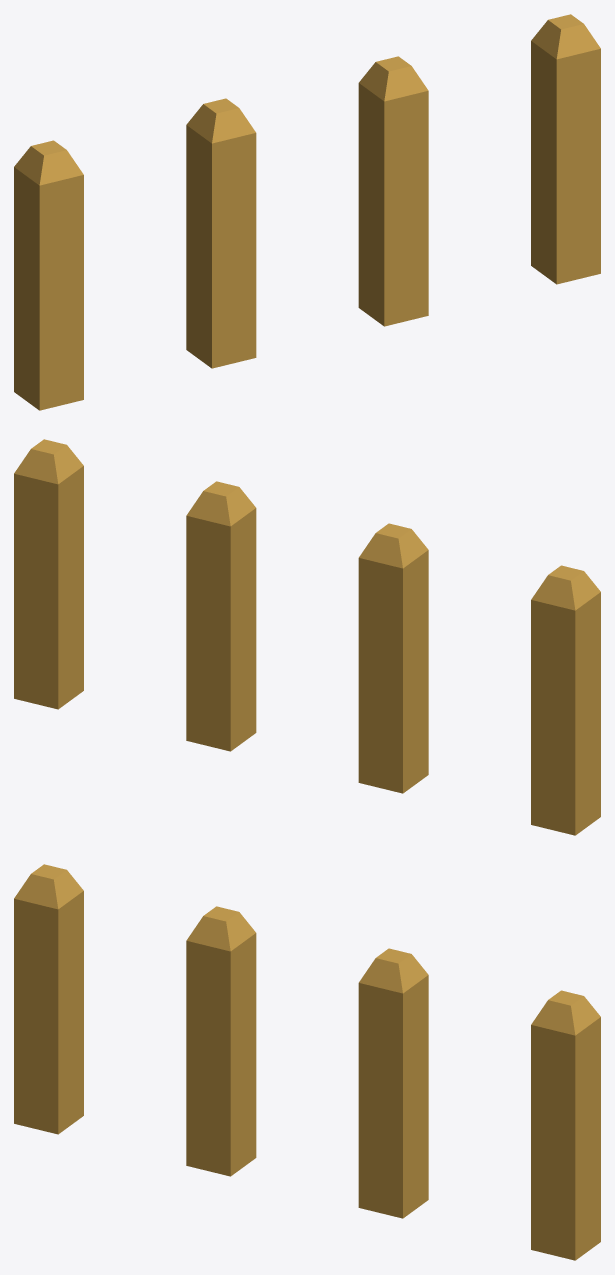
File: SM_Prop_Barrier_01.fbx
3 renders of one model, top to bottom at view 1: azimuth 30°, elevation 25°; view 2: azimuth 150°, elevation 25°; view 3: azimuth 330°, elevation 25°, orthographic.
Visible parts, largest first — view 1: SM_Prop_Barrier_01; view 2: SM_Prop_Barrier_01; view 3: SM_Prop_Barrier_01.
Boxes of the visible parts, x1,y1,x2,y2 form: SM_Prop_Barrier_01: [14, 14, 600, 410]; SM_Prop_Barrier_01: [14, 439, 600, 835]; SM_Prop_Barrier_01: [14, 864, 600, 1260].
Bounding box in the file's own units: 82.34 × 34.74 × 6.5.
